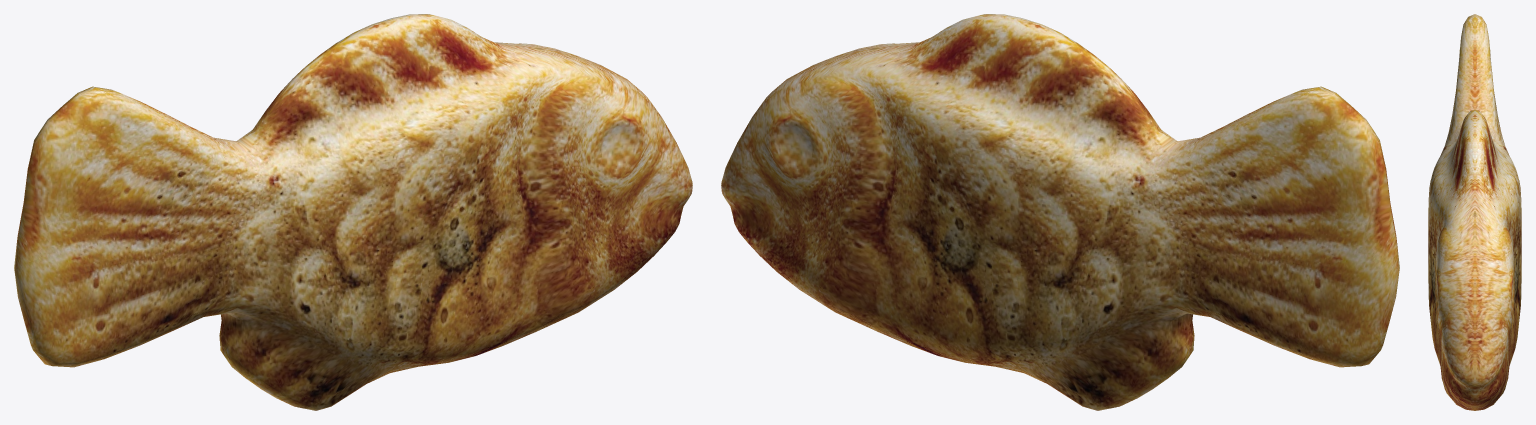
File: fishbread05.glb
3 views of the same model, side by side, from view 1: azimuth 30°, elevation 25°; view 2: azimuth 150°, elevation 25°; view 3: azimuth 270°, elevation 25° (orthographic). The views are drawn at different scales.
Visible parts, largest first — view 1: Plane; view 2: Plane; view 3: Plane.
Part boxes in pixels (x1,y1,x2,y2): Plane: (14,14,692,410); Plane: (721,14,1399,410); Plane: (1428,14,1521,410).
Size of the model in its own units: 0.9976 by 0.5298 by 0.1739.
Materials: 1 (1 with a texture image).
